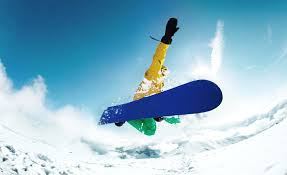snowboard: (97, 76, 223, 124)
